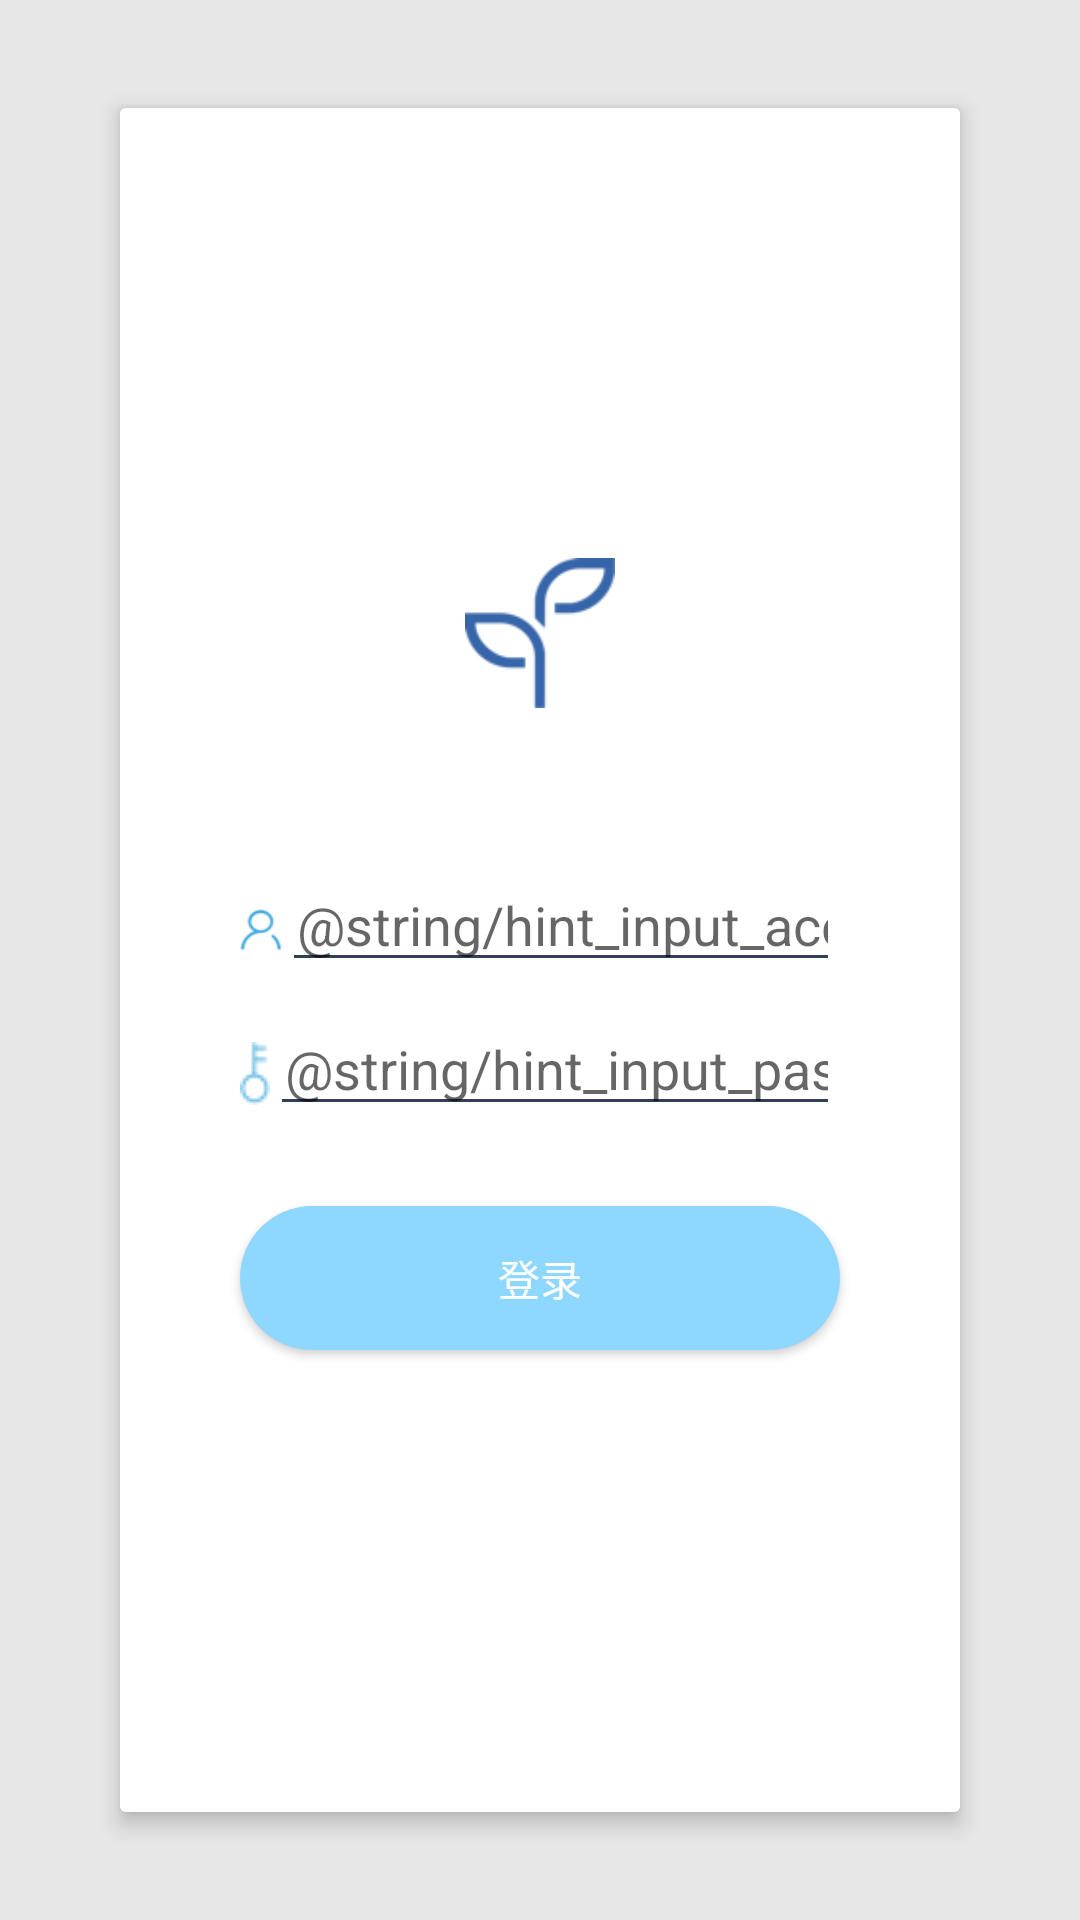

Named icons in this screenshot (1080w x 1920h) and their bounding boxes, (x1, y1, x2, y2):
account: (240, 909, 282, 950)
